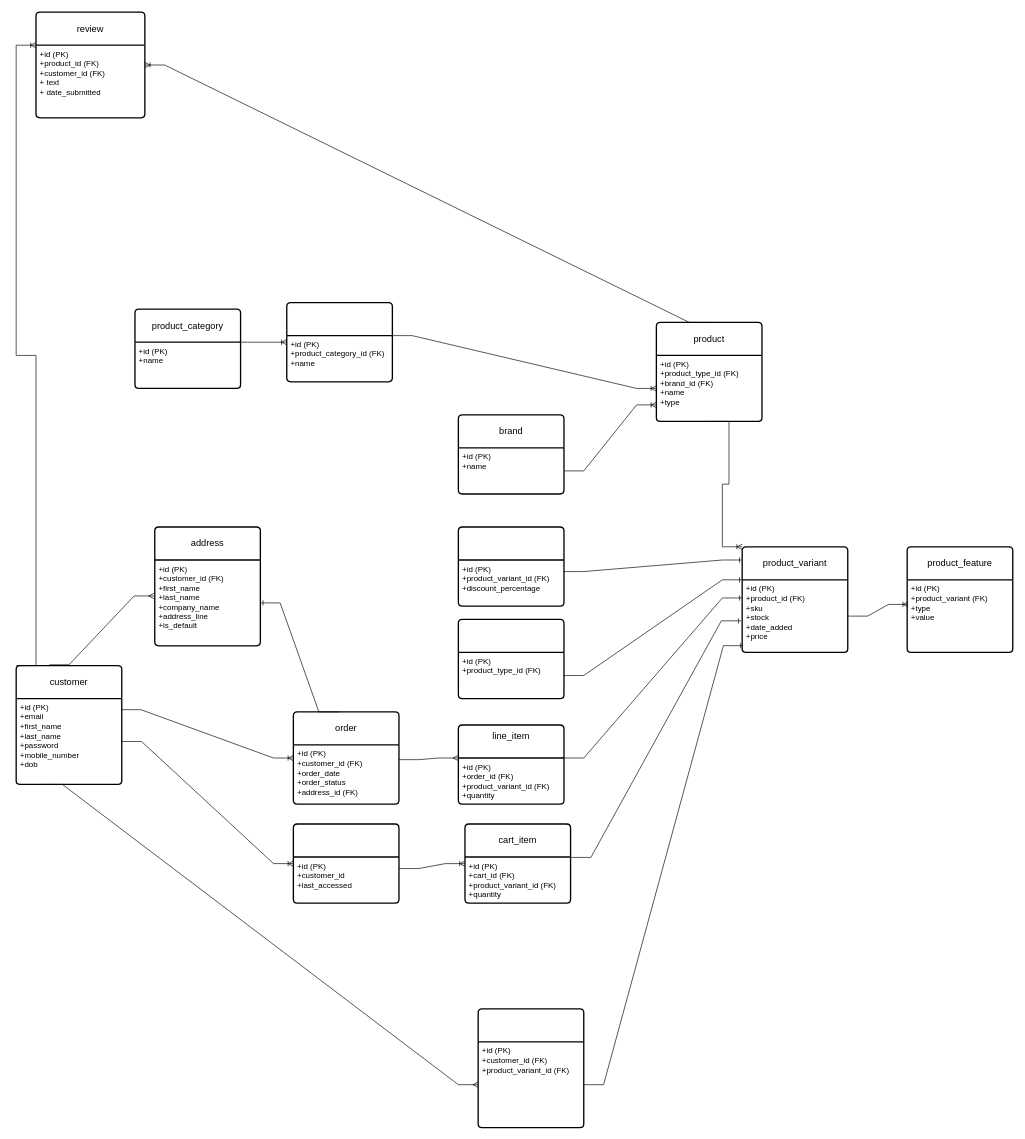
Image size: 1025x1139. Some labels were removed from this diagram. Here are the shapes that lost their labels. From the top down, the box of each, then its label:
(286, 302, 393, 382): product_subcategory
(457, 526, 564, 607): discount_deal
(457, 618, 564, 699): clearance
(292, 823, 399, 904): cart
(477, 1008, 584, 1128): wish_list_item
